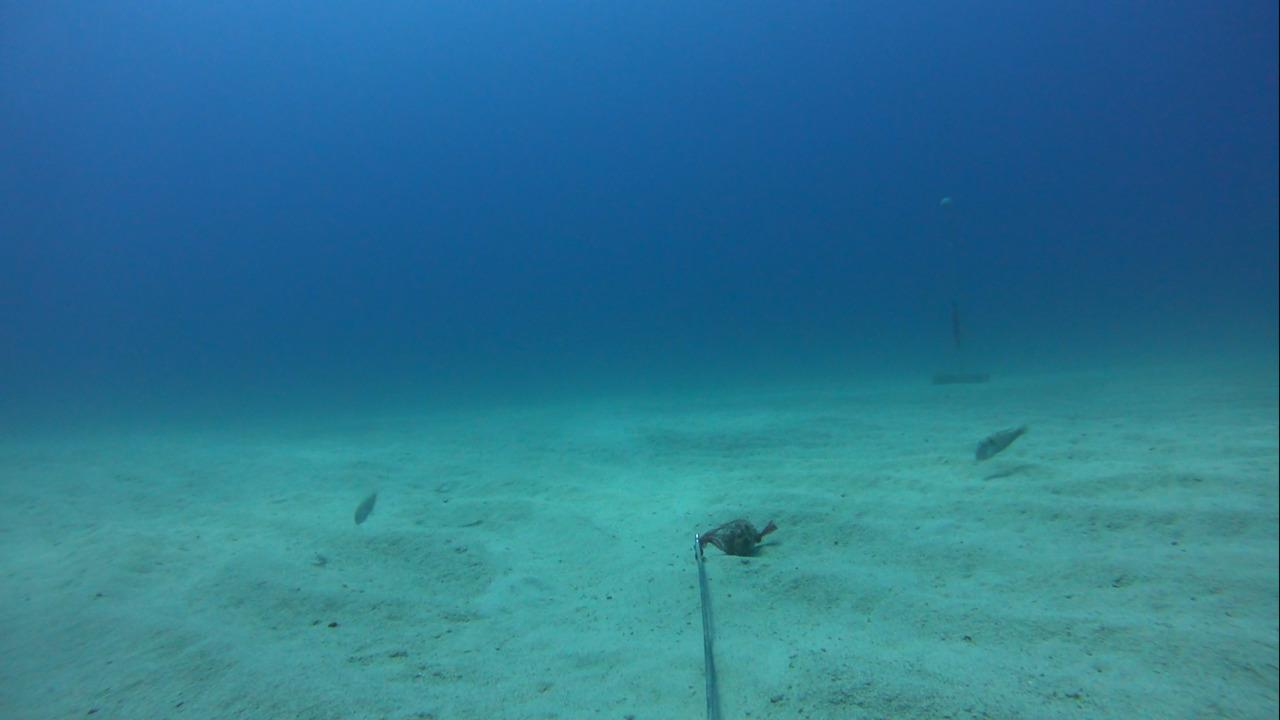raor: (964, 416, 1033, 468), (342, 482, 388, 530)
